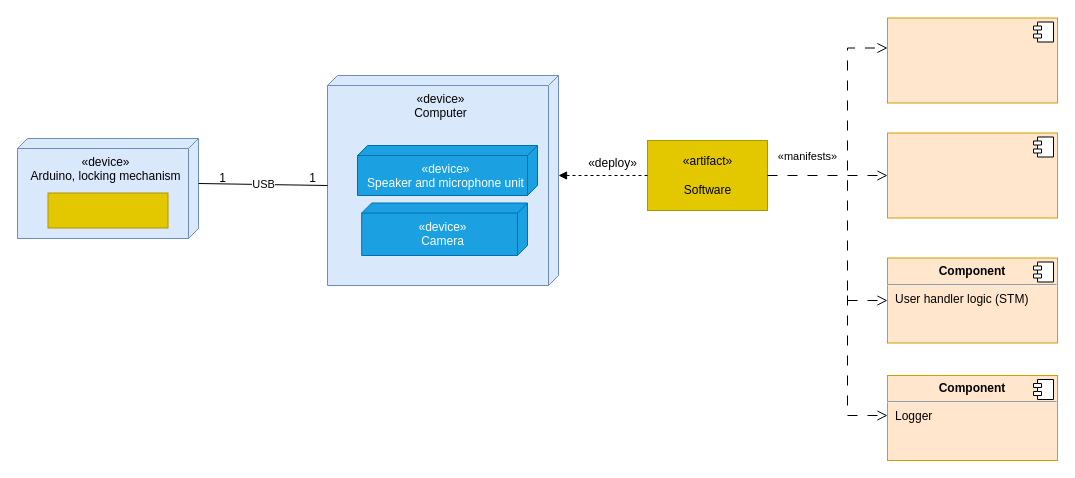
The diagram is 1075 pixels wide and 478 high, and some of its shapes have lost their labels. Each missing label, with the box of its shape:
Component Facial recognition: (886, 17, 1058, 103)
Component Speech recognition: (886, 132, 1058, 218)
«artifact» Ardunio code: (47, 192, 168, 228)
